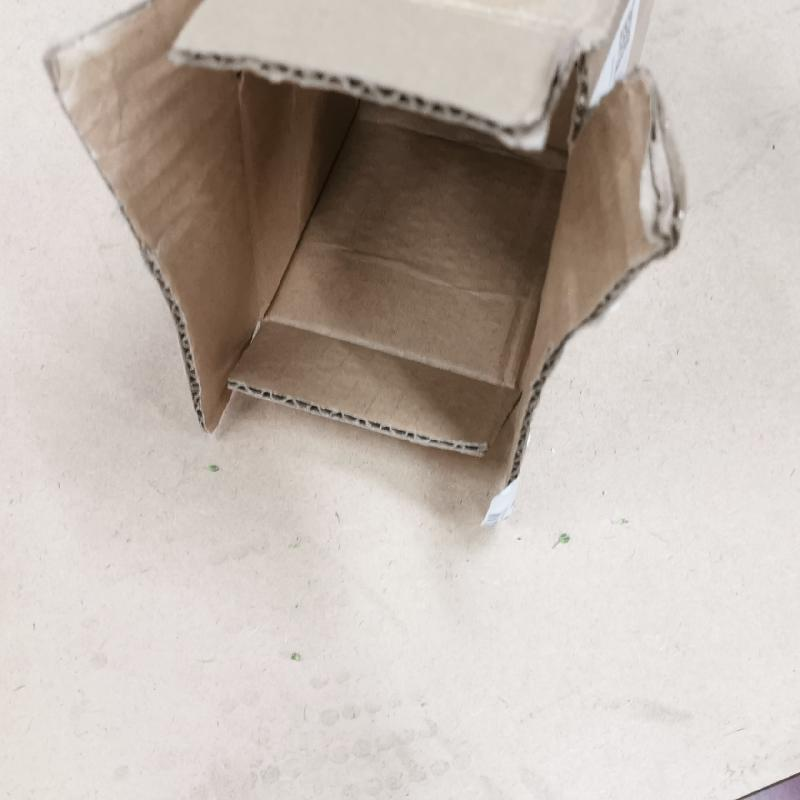boxes: (28, 5, 686, 527)
